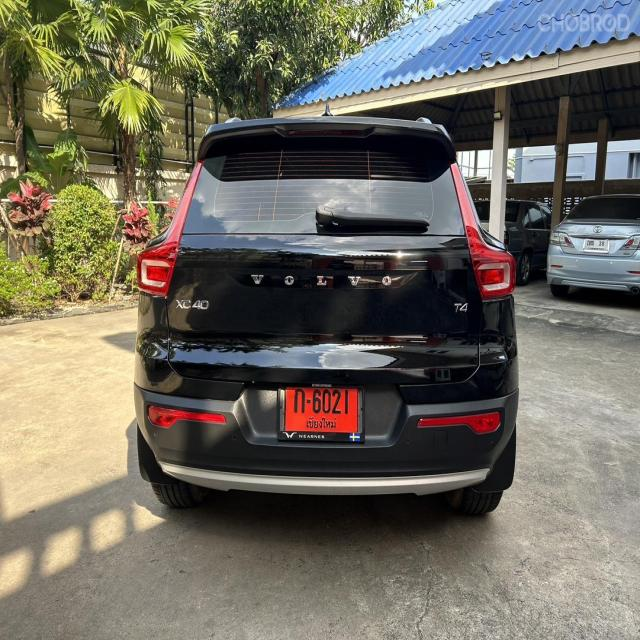license_plate: (278, 378, 367, 446)
